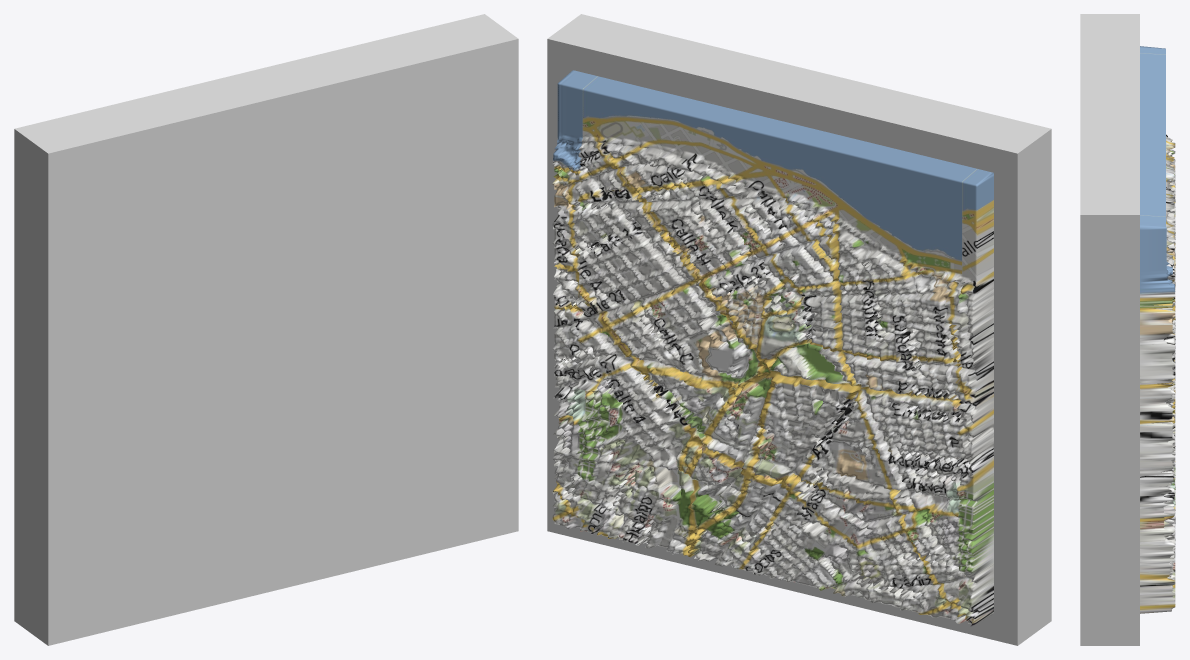
File: maptest.gltf
3 views of the same model, side by side, from view 1: azimuth 30°, elevation 25°; view 2: azimuth 150°, elevation 25°; view 3: azimuth 270°, elevation 25° (orthographic). The views are drawn at different scales.
Visible parts, largest first — view 1: Cube; view 2: Plane, Cube; view 3: Cube, Plane.
Part boxes in pixels (box(x1,y1,x2,y2)): Cube: box(14, 14, 518, 645); Plane: box(552, 70, 993, 626); Cube: box(547, 14, 1051, 645); Cube: box(1080, 14, 1139, 645); Plane: box(1140, 46, 1175, 613).
Bounding box in the file's own units: 4 × 4 × 0.7992.
Materials: 1 (1 with a texture image).
